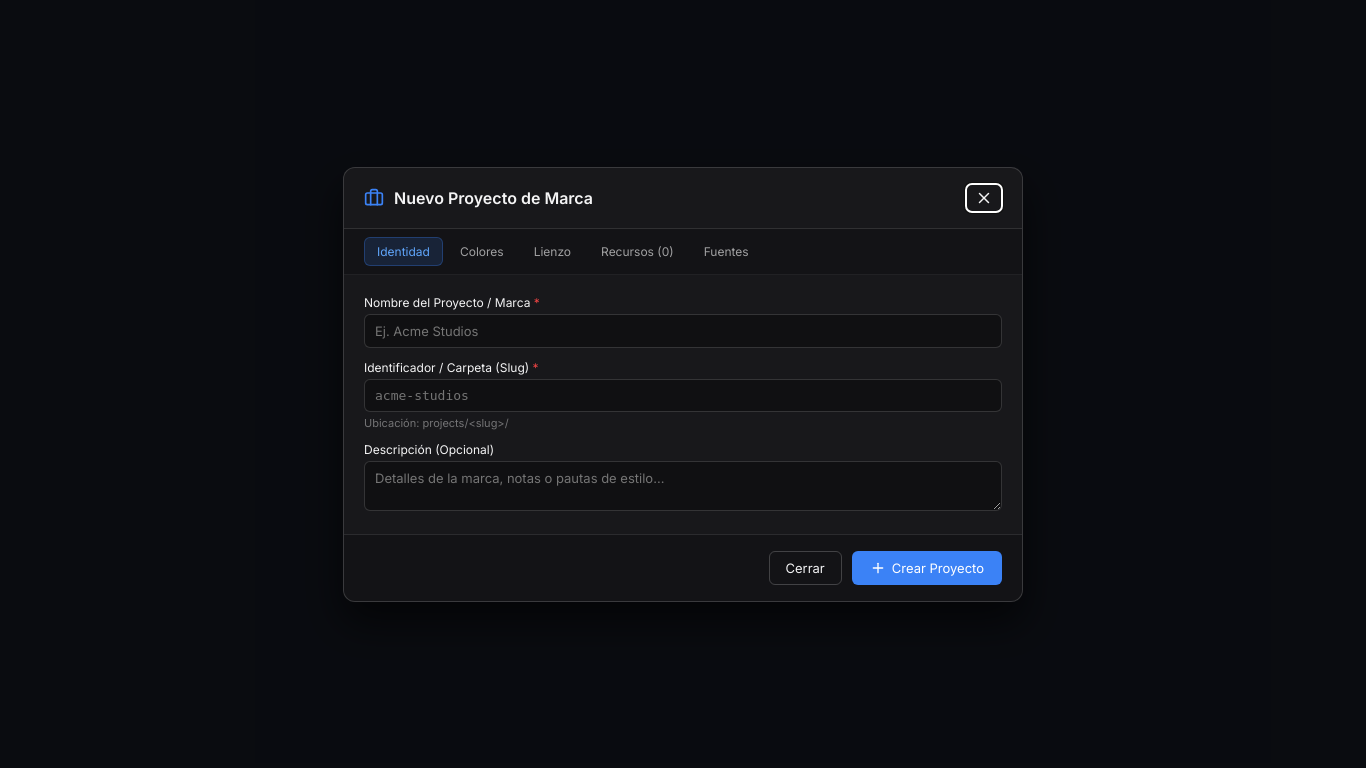
Test: BrandManagerDialog › shows the server's error and stays open
Type "Acme" into the field labelled "Nombre del Proyecto / Marca *".
click(683, 330); type("Acme")  # box [364,314,1002,348]
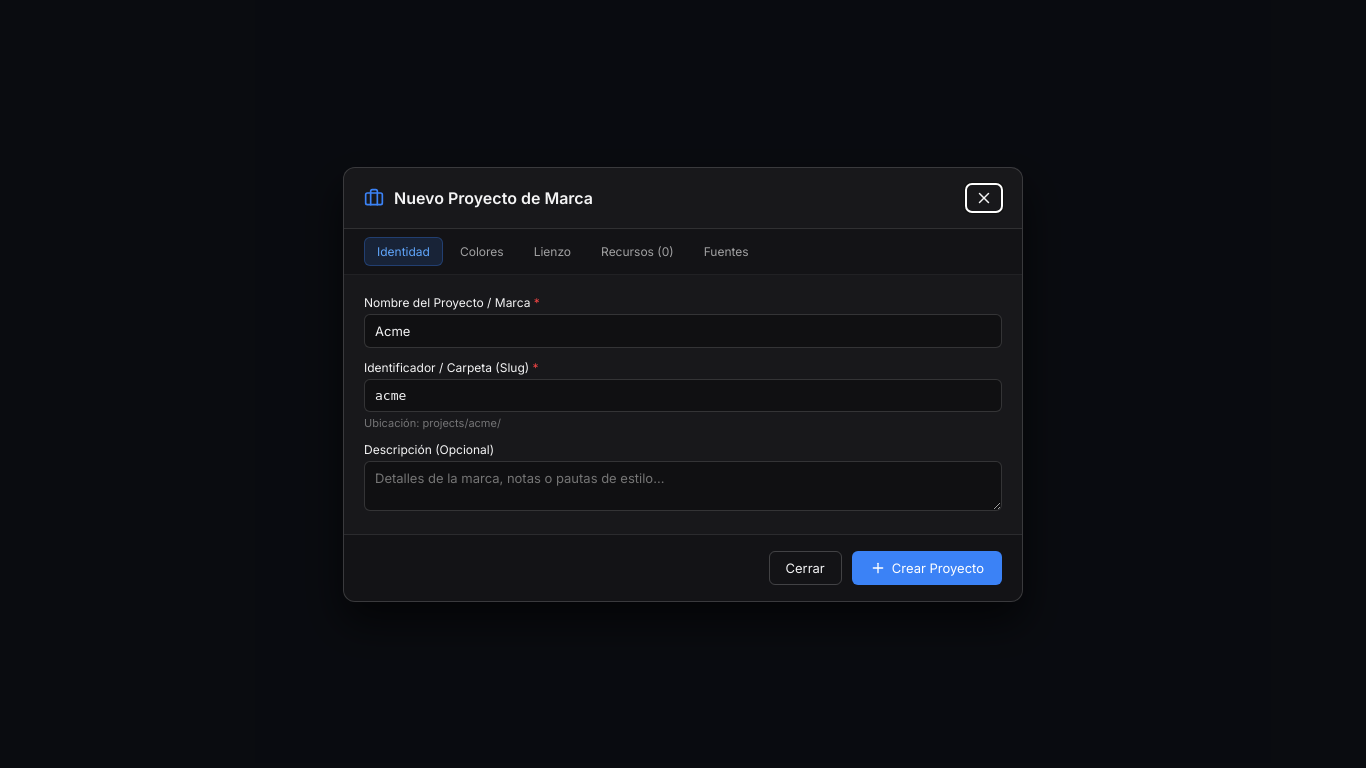
Click the button "Crear Proyecto".
click(927, 568)  # box [852,550,1002,584]
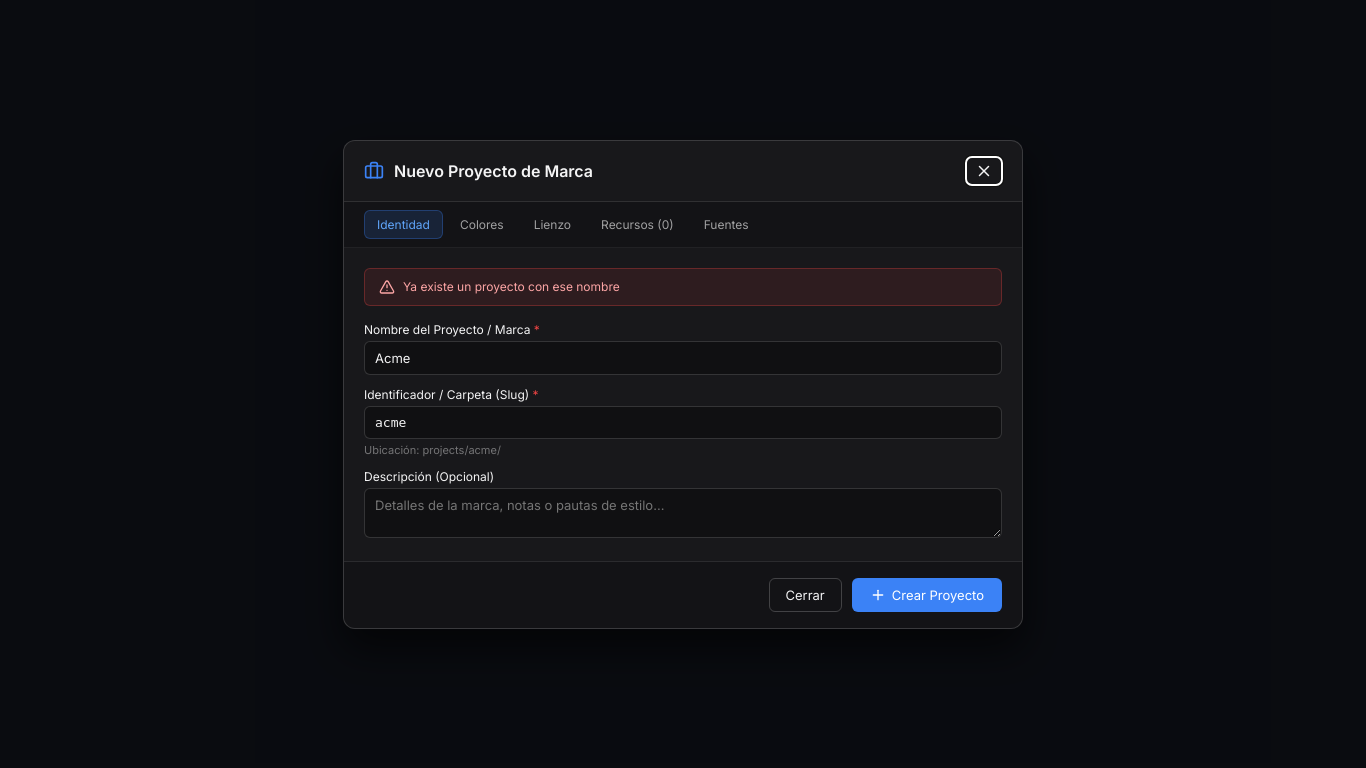
Expected: the text "Ya existe un proyecto con ese nombre" is shown, [403,279,620,294]
